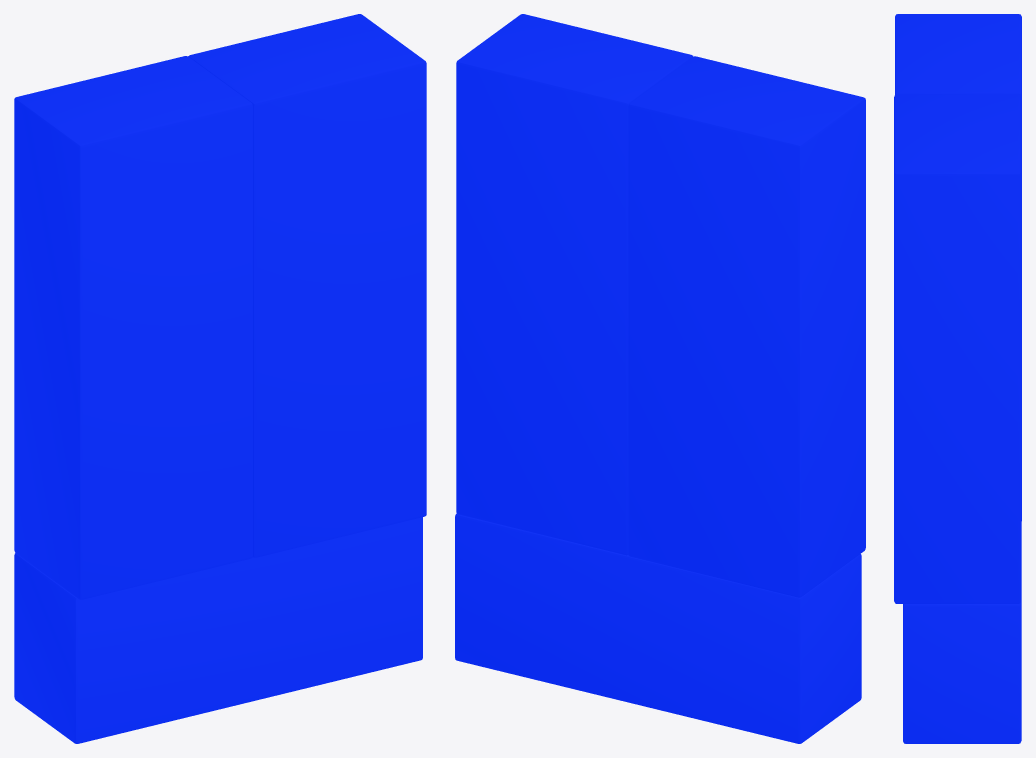
Rendered from Schrank.fbx.
3 views of the same model, side by side, from view 1: azimuth 30°, elevation 25°; view 2: azimuth 150°, elevation 25°; view 3: azimuth 270°, elevation 25° (orthographic). The views are drawn at different scales.
Parts seen in each view (by area): view 1: Schrank_Export; view 2: Schrank_Export; view 3: Schrank_Export.
Boxes of the visible parts, bbox=[...] form: Schrank_Export: bbox=[14, 14, 426, 743]; Schrank_Export: bbox=[455, 14, 865, 743]; Schrank_Export: bbox=[894, 14, 1021, 743].
Size of the model in its own units: 120 by 198 by 40.24.
